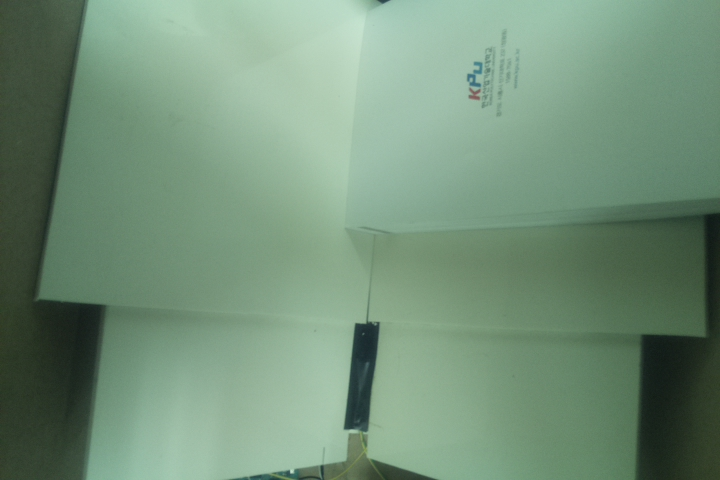book: (343, 1, 720, 238)
